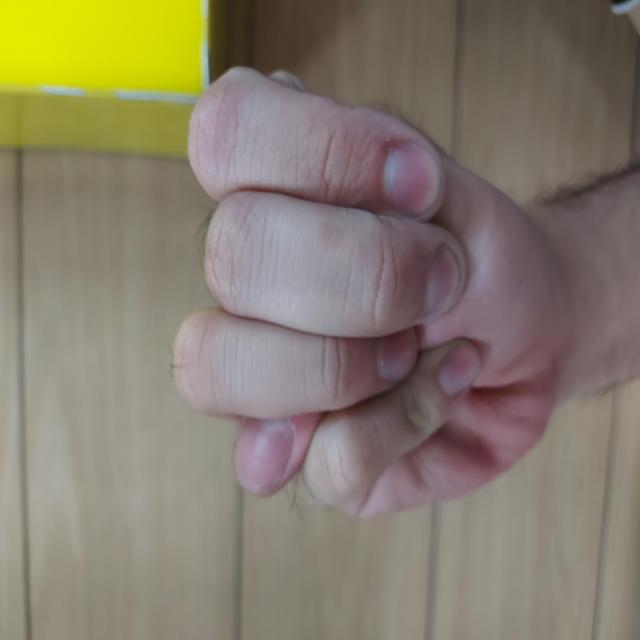M: (118, 172, 574, 566)
